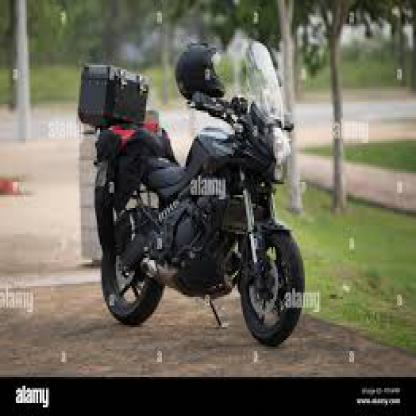Motorcycle: (71, 38, 308, 342)
